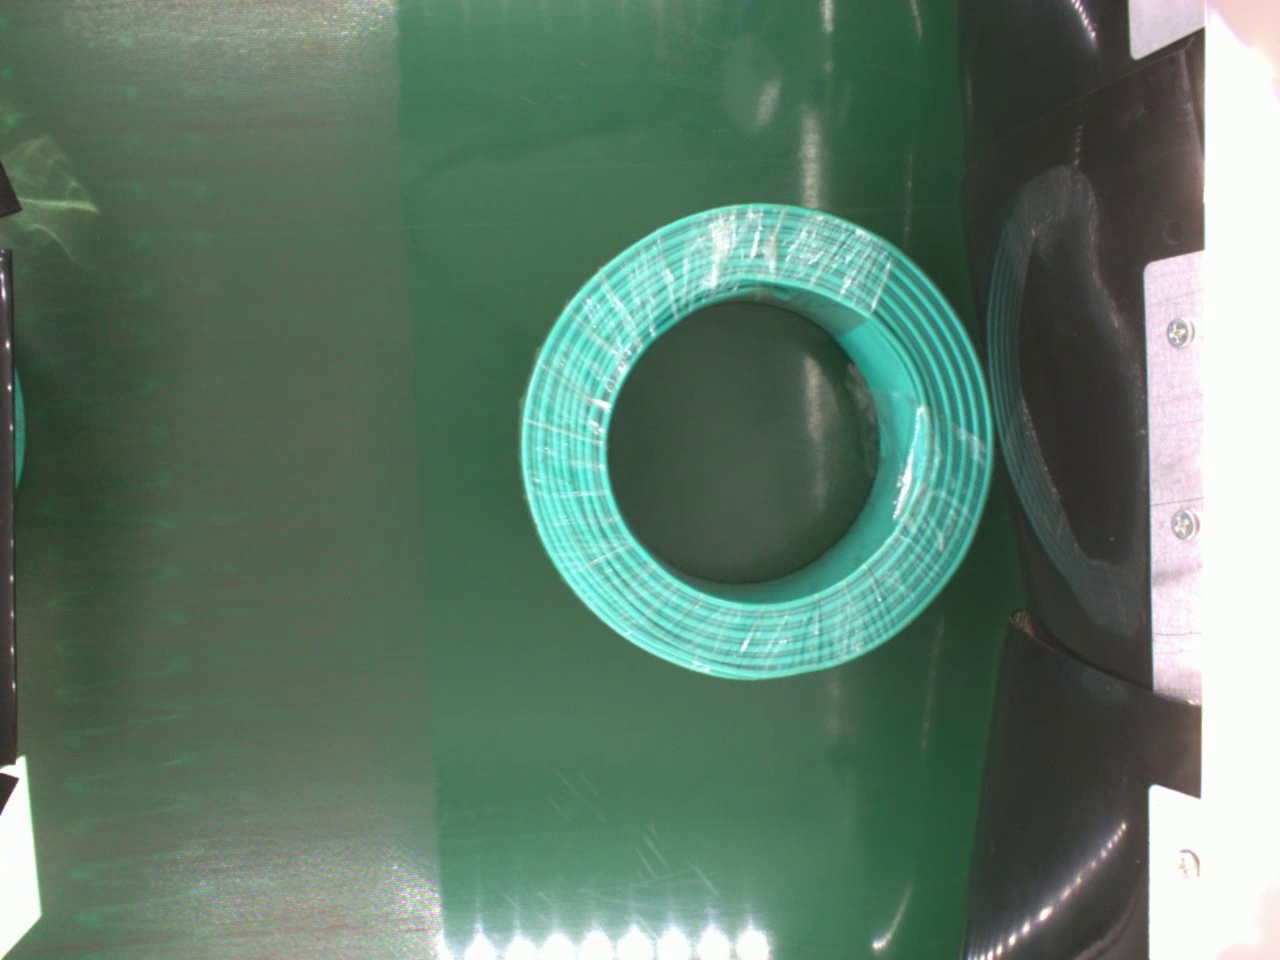green: (515, 195, 996, 680)
